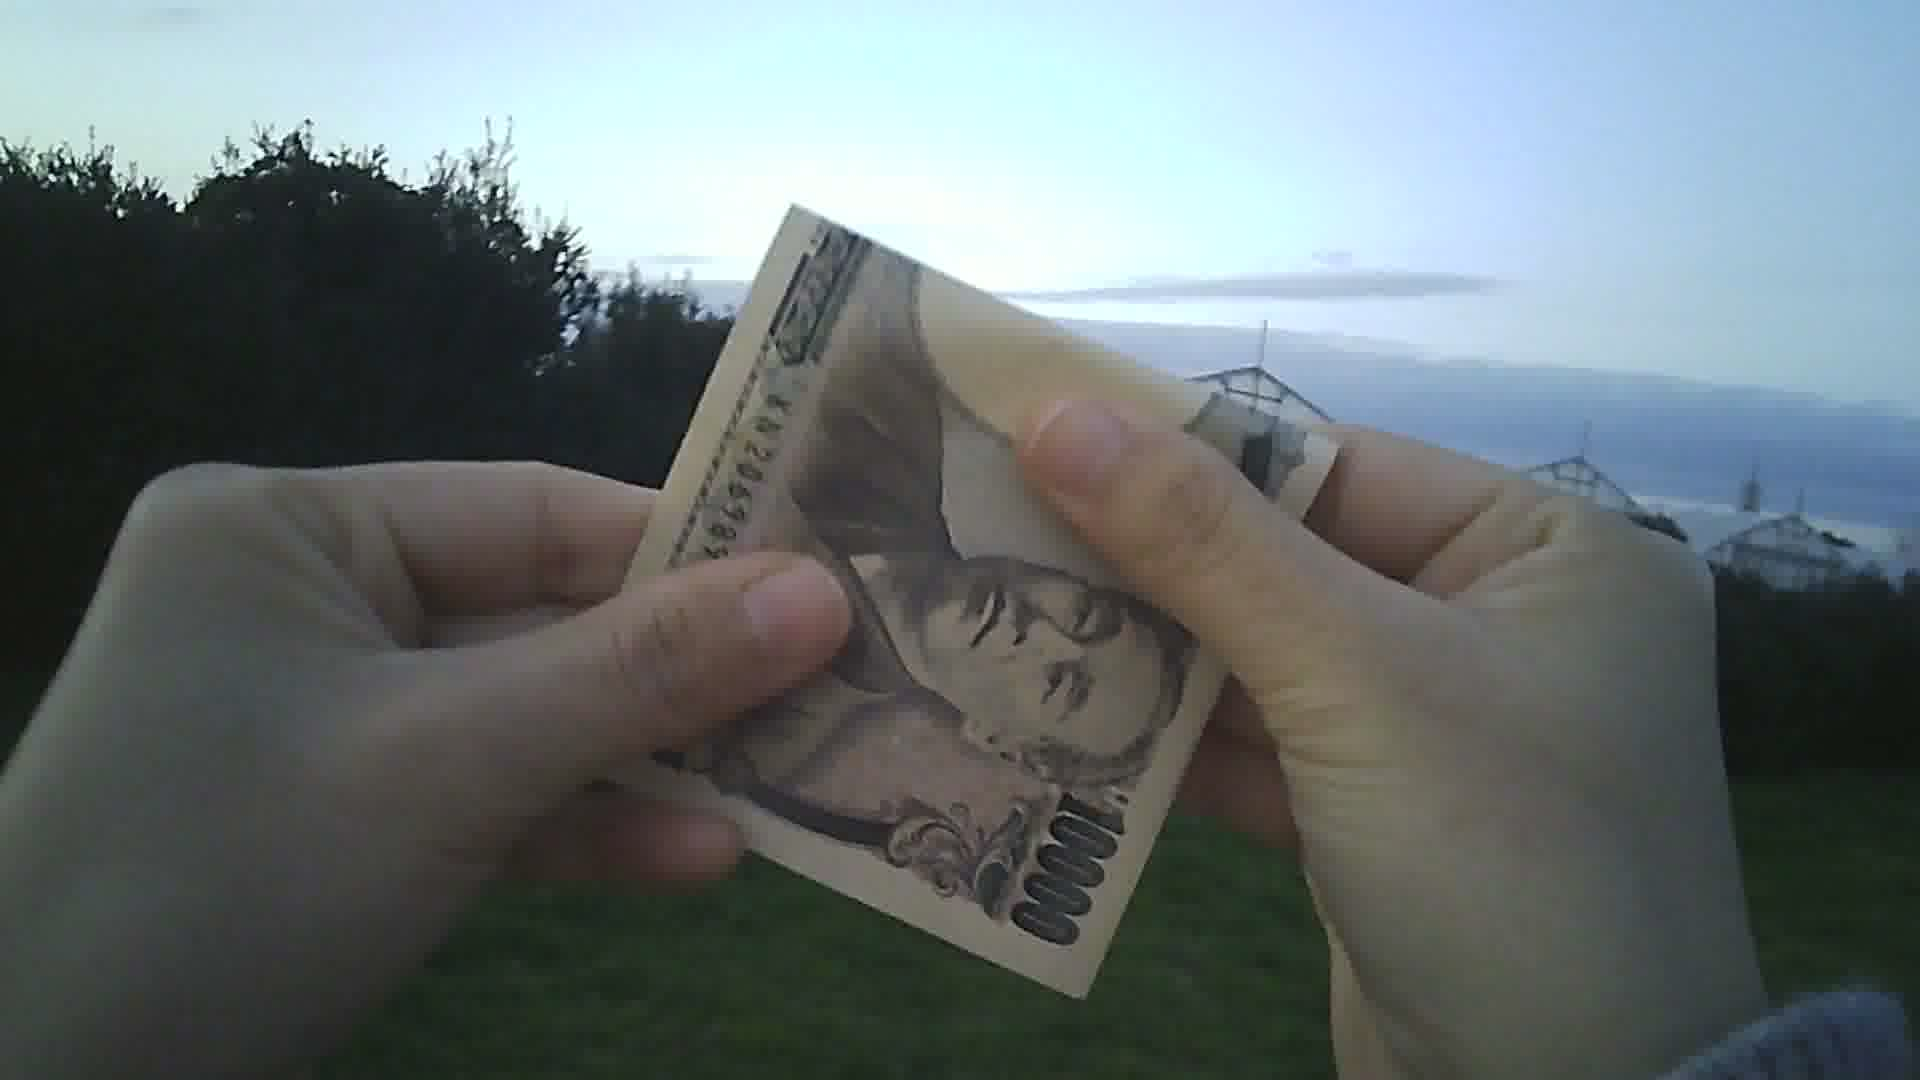10,000 Yen: (568, 160, 1338, 980)
